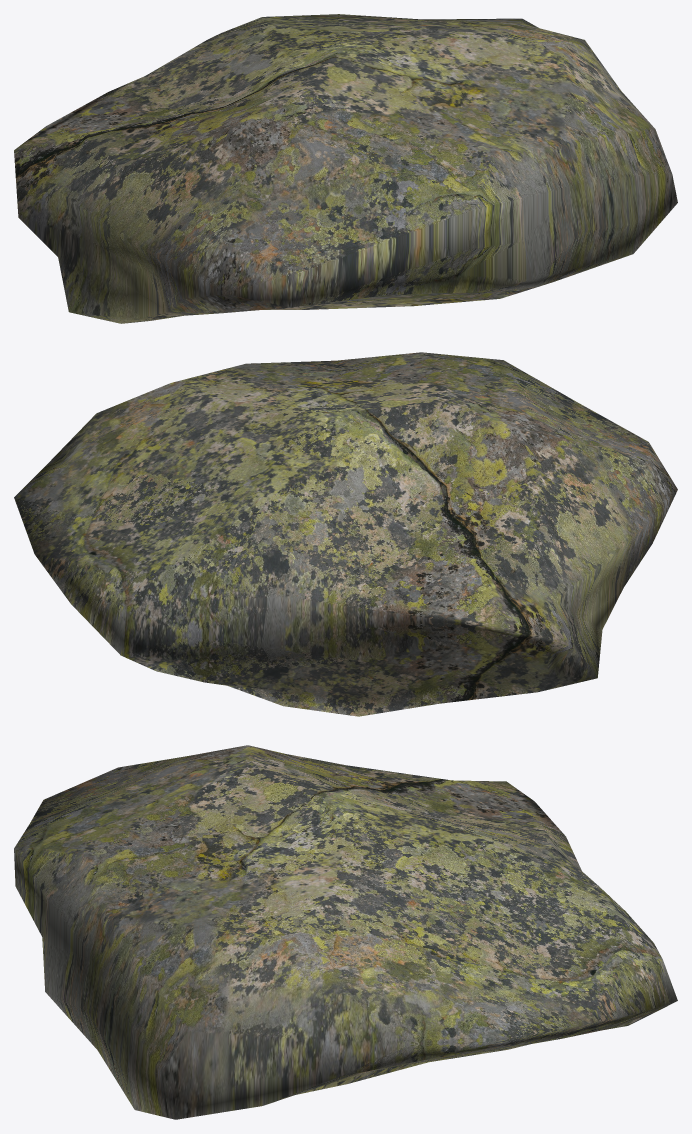
The model's file is boulder_d_lod1.gltf.
3 views of the same model, one above another, from view 1: azimuth 30°, elevation 25°; view 2: azimuth 150°, elevation 25°; view 3: azimuth 270°, elevation 25° (orthographic). The views are drawn at different scales.
Visible parts, largest first — view 1: boulder_d_LOD1; view 2: boulder_d_LOD1; view 3: boulder_d_LOD1.
Part boxes in pixels (x1=…): boulder_d_LOD1: x1=14, y1=14, x2=677, y2=323; boulder_d_LOD1: x1=14, y1=352, x2=677, y2=716; boulder_d_LOD1: x1=14, y1=745, x2=677, y2=1119.
Bounding box in the file's own units: 1.9 × 0.8506 × 1.84.
Materials: 1 (1 with a texture image).
